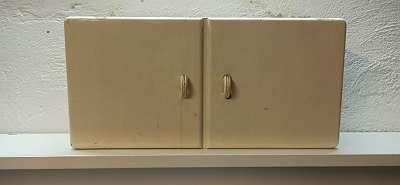cabinet_door: (204, 21, 339, 149), (72, 21, 203, 151)
handle: (221, 70, 236, 101), (179, 73, 193, 100)
